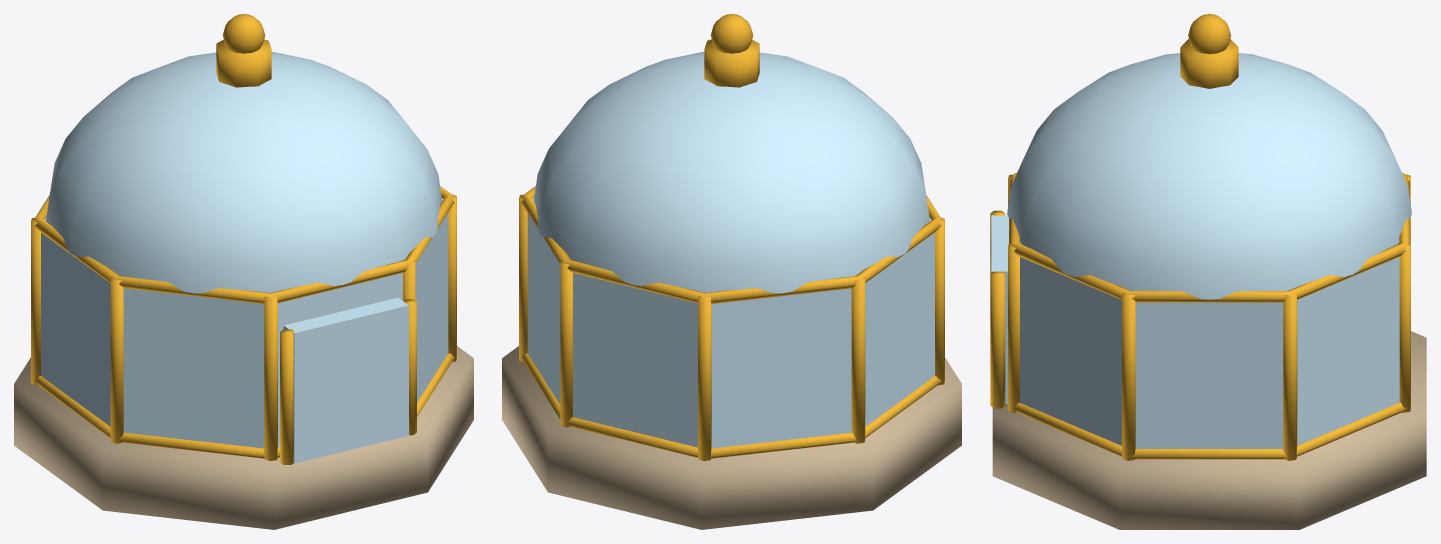
File: sera_2.glb
3 renders of one model, left to right at view 1: azimuth 30°, elevation 25°; view 2: azimuth 150°, elevation 25°; view 3: azimuth 270°, elevation 25°, orthographic.
Parts seen in each view (by area): view 1: Sera.001; view 2: Sera.001; view 3: Sera.001.
Part boxes in pixels (x1,y1,x2,y2): Sera.001: (14,14,473,529); Sera.001: (502,14,961,529); Sera.001: (990,14,1426,529).
Size of the model in its own units: 2.01 by 2.16 by 2.02.
